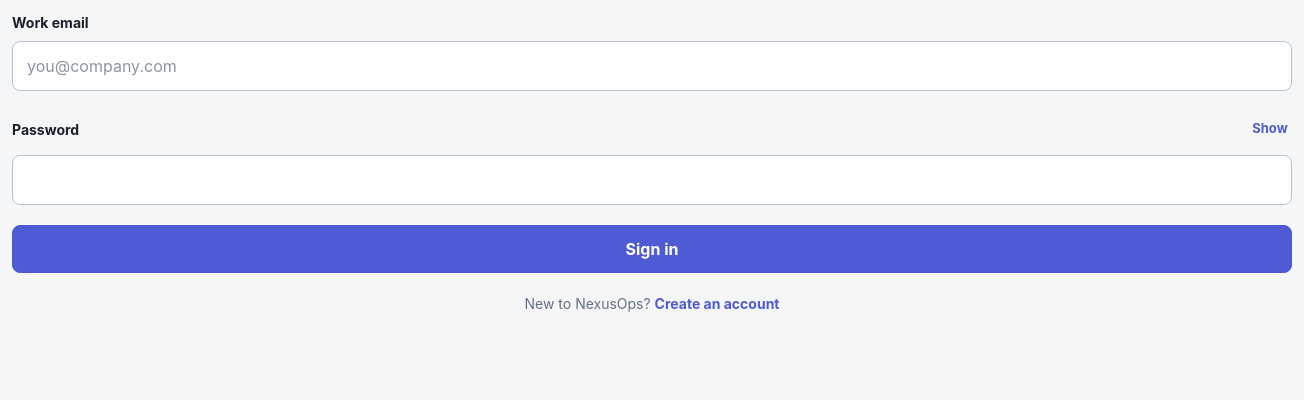
Test: AuthForm › shows a safe API authentication error without losing entered values
The image size is (1304, 400).
Type "ada@example.com" into the field labelled "Work email". click: coordinates (652, 66)
box: [12,41,1292,91]
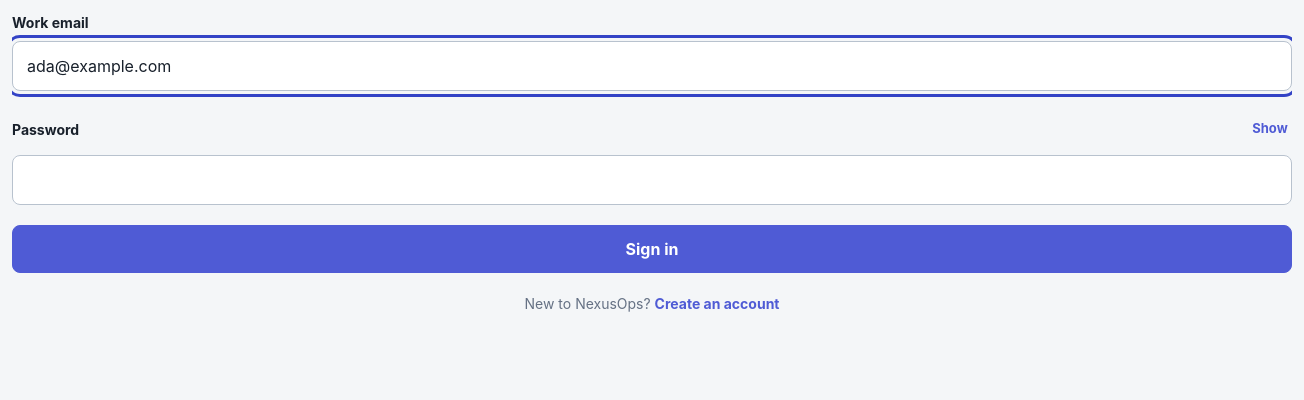
Type "wrong password" into the password field labelled "Password". click: coordinates (652, 180)
box: [12,155,1292,205]
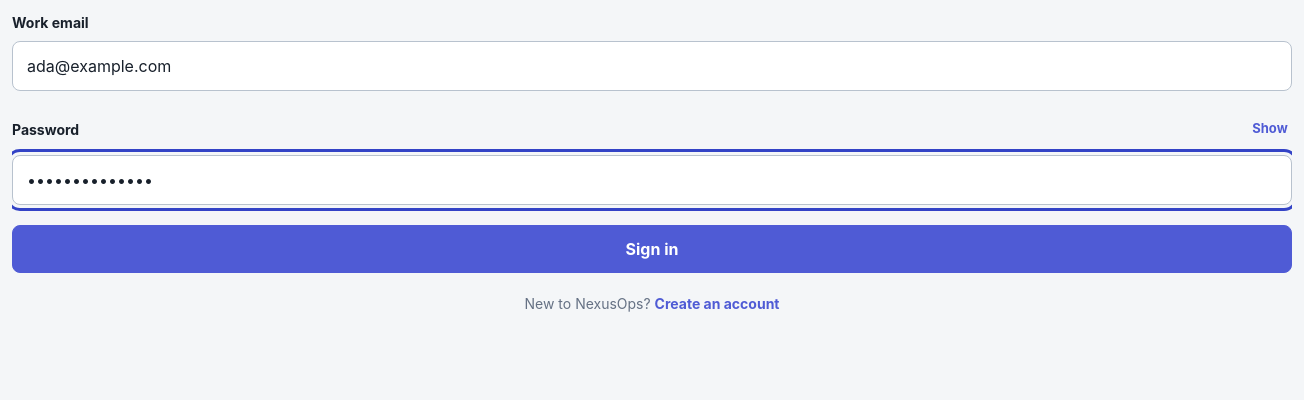
Submit the form "Sign in"
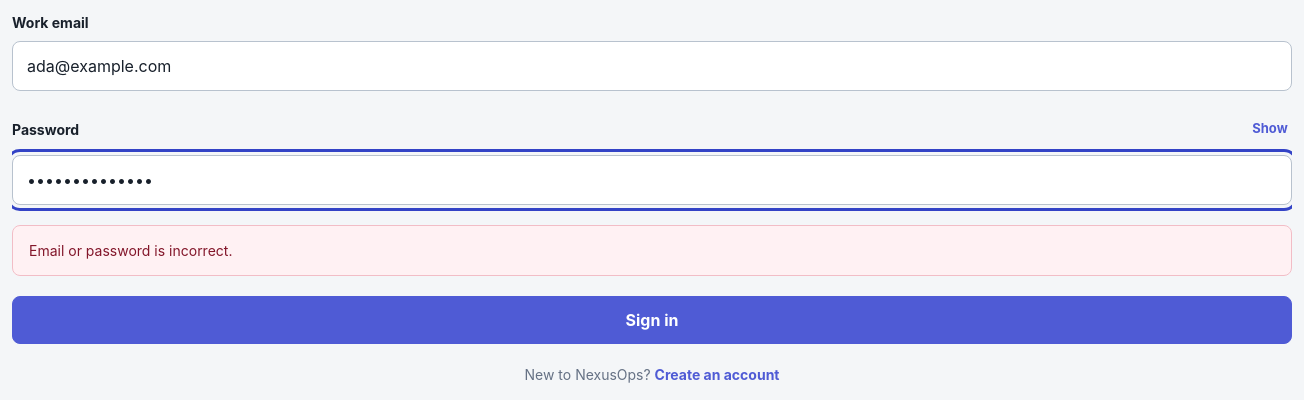
Now the message reads "Email or password is incorrect.", box [29,242,232,259]
